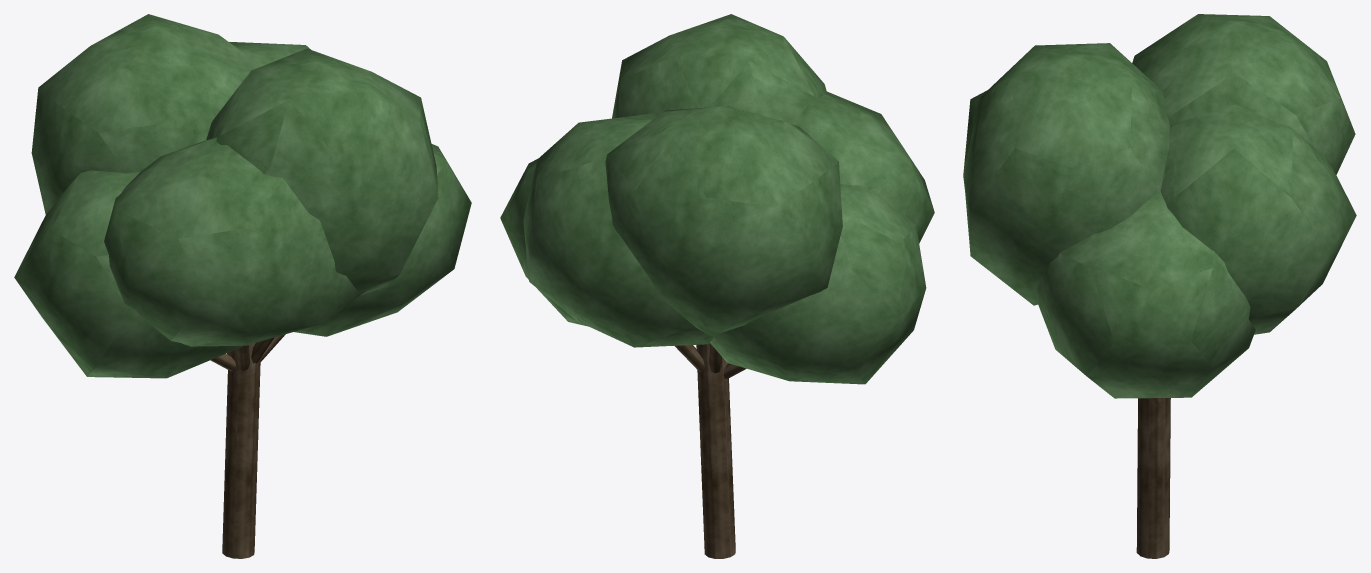
File: broadleaf-tree.glb
3 views of the same model, side by side, from view 1: azimuth 30°, elevation 25°; view 2: azimuth 150°, elevation 25°; view 3: azimuth 270°, elevation 25° (orthographic). The views are drawn at different scales.
Parts seen in each view (by area): view 1: Broadleaf_foliage, Broadleaf_wood; view 2: Broadleaf_foliage, Broadleaf_wood; view 3: Broadleaf_foliage, Broadleaf_wood.
Part boxes in pixels (<box>): Broadleaf_foliage: <box>14,14,471,378</box>; Broadleaf_wood: <box>210,334,285,558</box>; Broadleaf_foliage: <box>500,14,934,384</box>; Broadleaf_wood: <box>674,343,746,558</box>; Broadleaf_foliage: <box>963,14,1356,398</box>; Broadleaf_wood: <box>1136,398,1170,558</box>.
Bounding box in the file's own units: 5.85 × 6.79 × 4.71.
2 materials, 2 textured.
